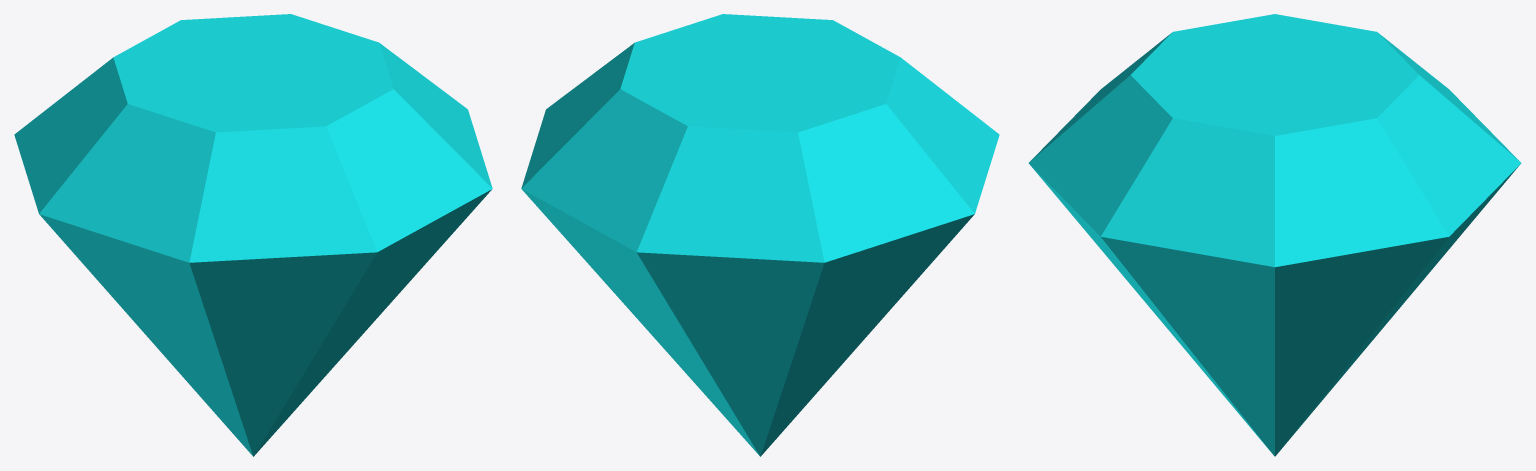
File: diament.fbx
3 renders of one model, left to right at view 1: azimuth 30°, elevation 25°; view 2: azimuth 150°, elevation 25°; view 3: azimuth 270°, elevation 25°, orthographic.
Visible parts, largest first — view 1: Diament; view 2: Diament; view 3: Diament.
Part boxes in pixels (x1,y1,x2,y2): Diament: (14,14,492,456); Diament: (521,14,999,456); Diament: (1028,14,1521,456).
Bounding box in the file's own units: 2 × 1.71 × 2.
